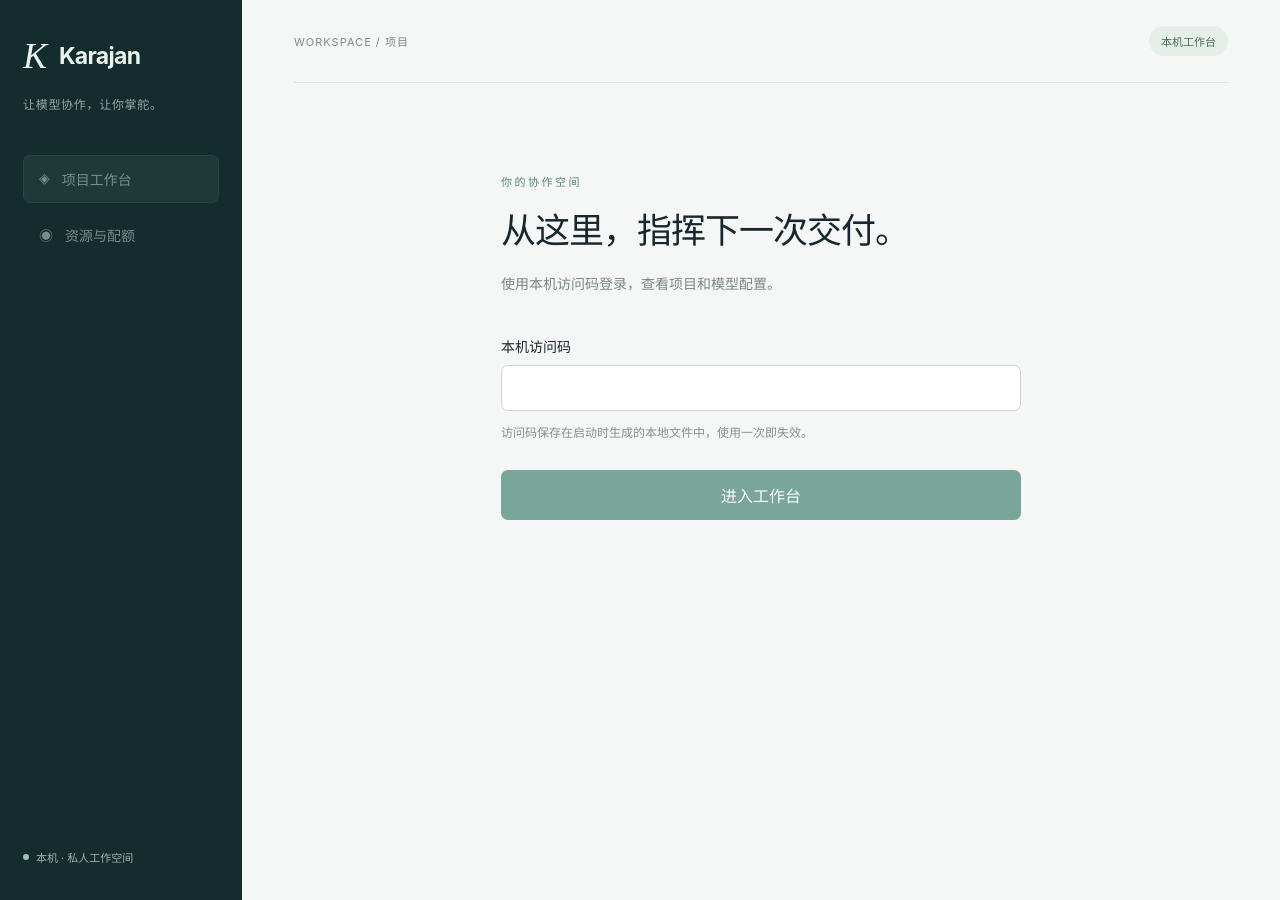
exchanges the local code and lists authenticated projects without preserving the code
Step 1. Type "private-code" into the password field labelled "本机访问码" → (761, 388), box [501,365,1021,411]
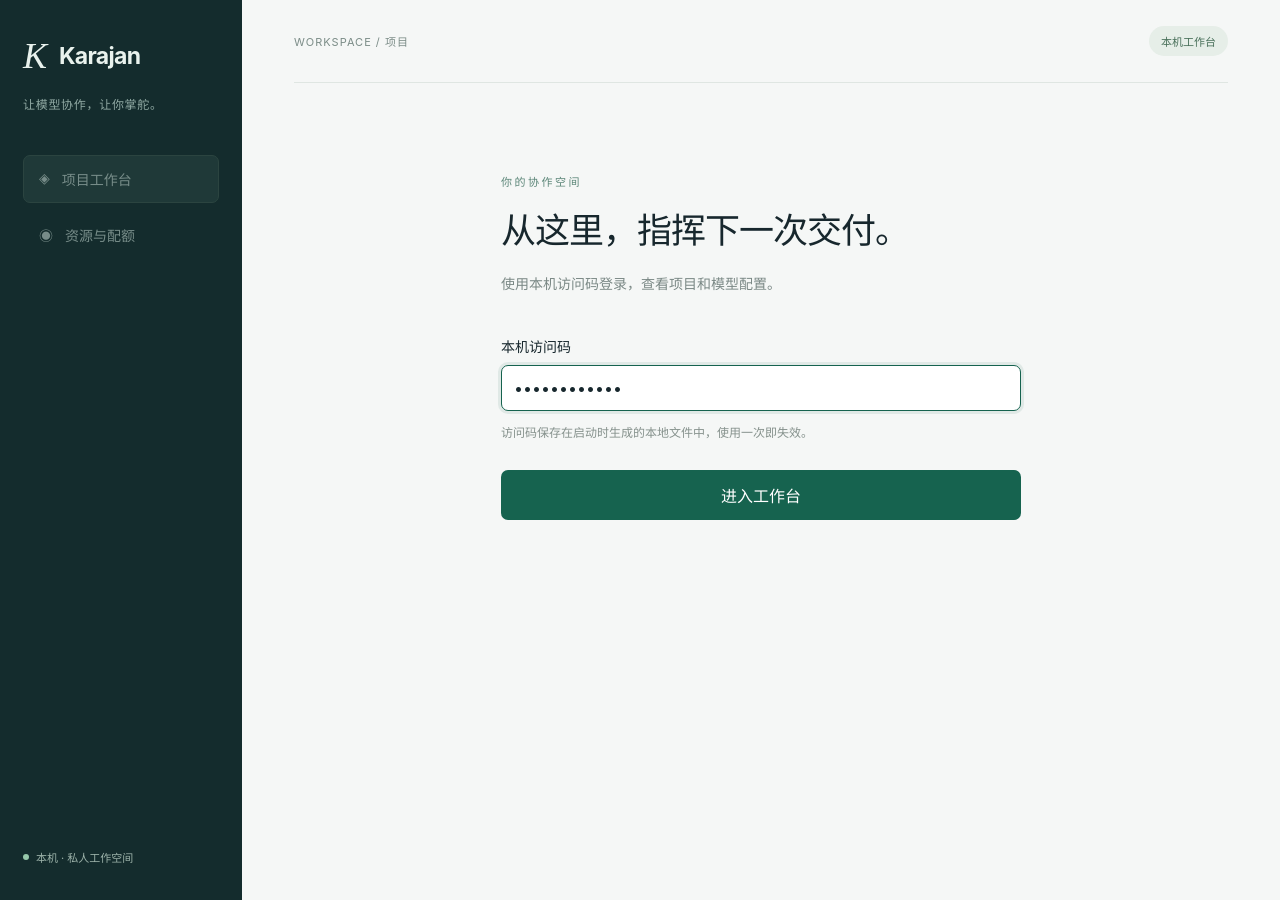
Step 2. Click the button "进入工作台" → (761, 495), box [501,470,1021,520]
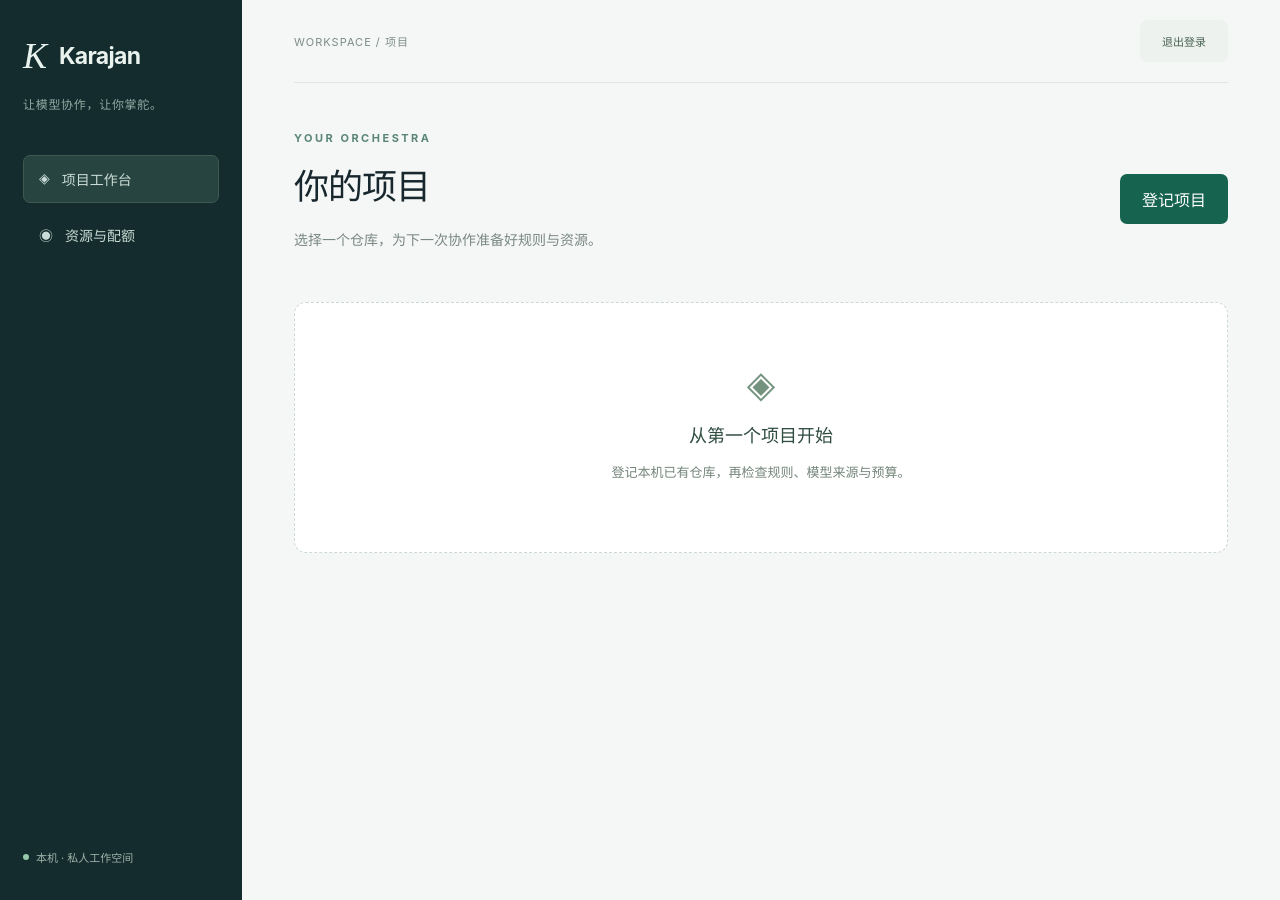
Expected: the heading "你的项目" is shown, [294,165,430,207]
